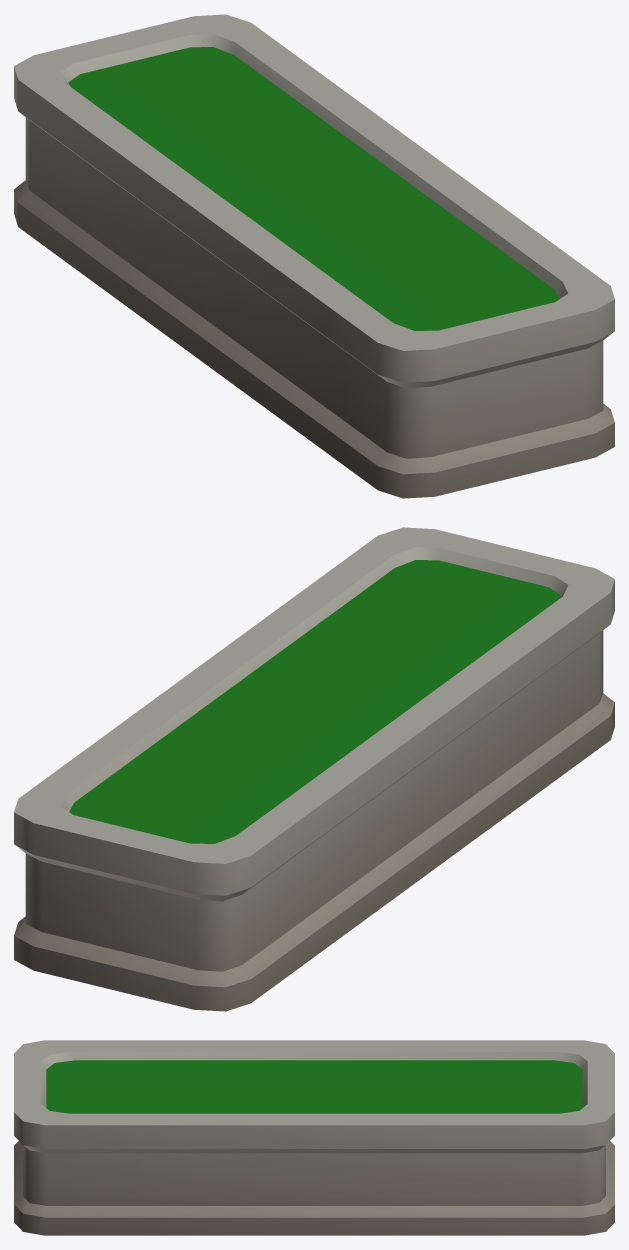
File: FlowerPlacet_5_1_B.fbx
3 renders of one model, top to bottom at view 1: azimuth 30°, elevation 25°; view 2: azimuth 150°, elevation 25°; view 3: azimuth 270°, elevation 25°, orthographic. The views are drawn at different scales.
Parts seen in each view (by area): view 1: FlowerPlacet_5_1_B; view 2: FlowerPlacet_5_1_B; view 3: FlowerPlacet_5_1_B.
Boxes of the visible parts, box(x1,y1,x2,y2) form: FlowerPlacet_5_1_B: box(14, 14, 614, 498); FlowerPlacet_5_1_B: box(14, 527, 614, 1011); FlowerPlacet_5_1_B: box(14, 1040, 614, 1235).
Bounding box in the file's own units: 143 × 86.38 × 426.
